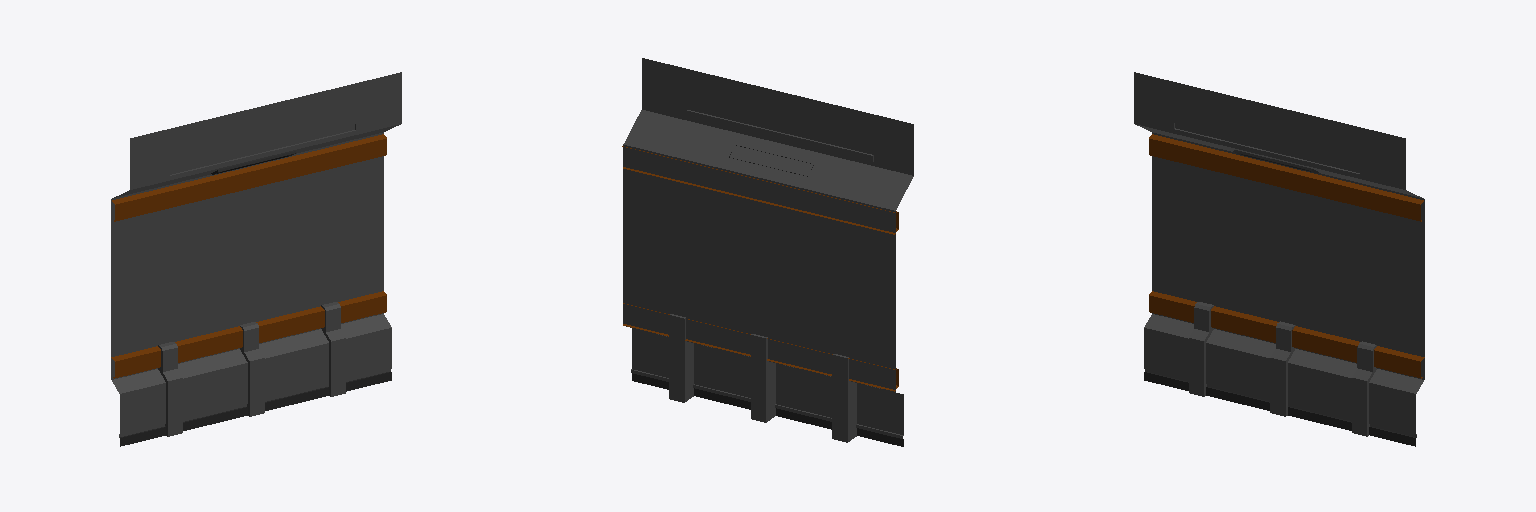
Rendered from Wall_Empty.obj.
3 renders of one model, left to right at view 1: azimuth 30°, elevation 25°; view 2: azimuth 150°, elevation 25°; view 3: azimuth 330°, elevation 25°, orthographic.
Visible parts, largest first — view 1: Wall_Empty_Plane.111; view 2: Wall_Empty_Plane.111; view 3: Wall_Empty_Plane.111.
Part boxes in pixels (bbox=[...]): Wall_Empty_Plane.111: bbox=[111, 72, 401, 446]; Wall_Empty_Plane.111: bbox=[622, 58, 913, 446]; Wall_Empty_Plane.111: bbox=[1134, 72, 1424, 446].
Bounding box in the file's own units: 4 × 4.43 × 0.4991.